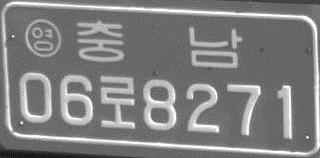0: (18, 70, 53, 124)
1: (267, 84, 301, 139)
2: (185, 83, 220, 134)
6: (58, 73, 93, 127)
7: (225, 82, 261, 137)
8: (142, 78, 177, 133)
로: (98, 74, 136, 130)
영: (23, 18, 61, 59)
충남_D: (75, 19, 242, 69)
